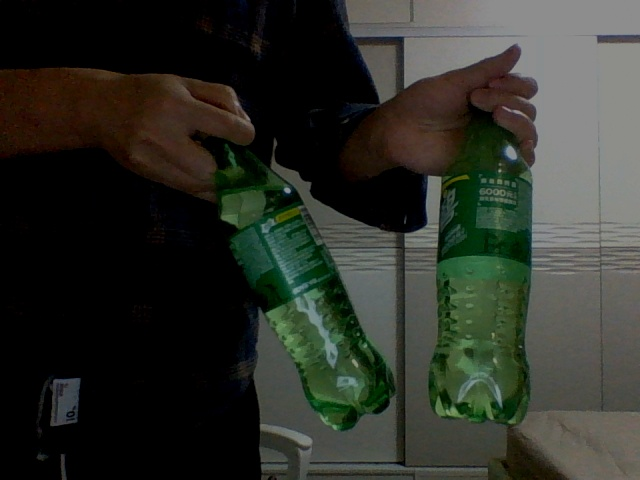Sprite: (212, 133, 395, 431), (428, 97, 535, 425)
